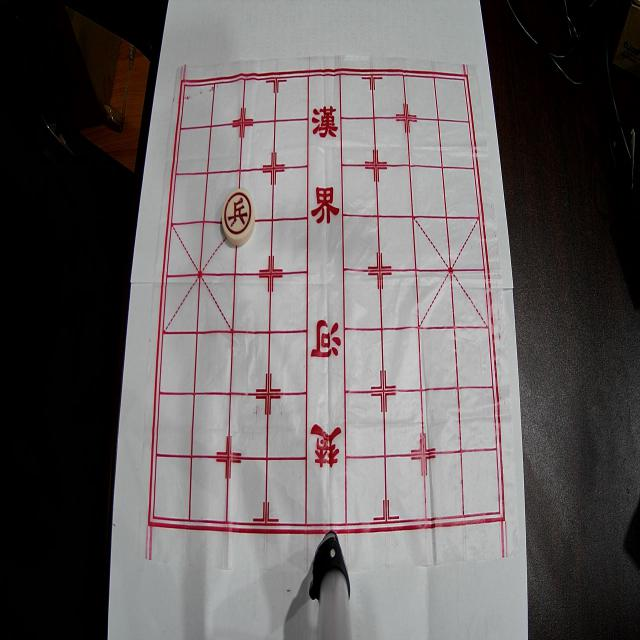red-soldier: (222, 188, 254, 246)
